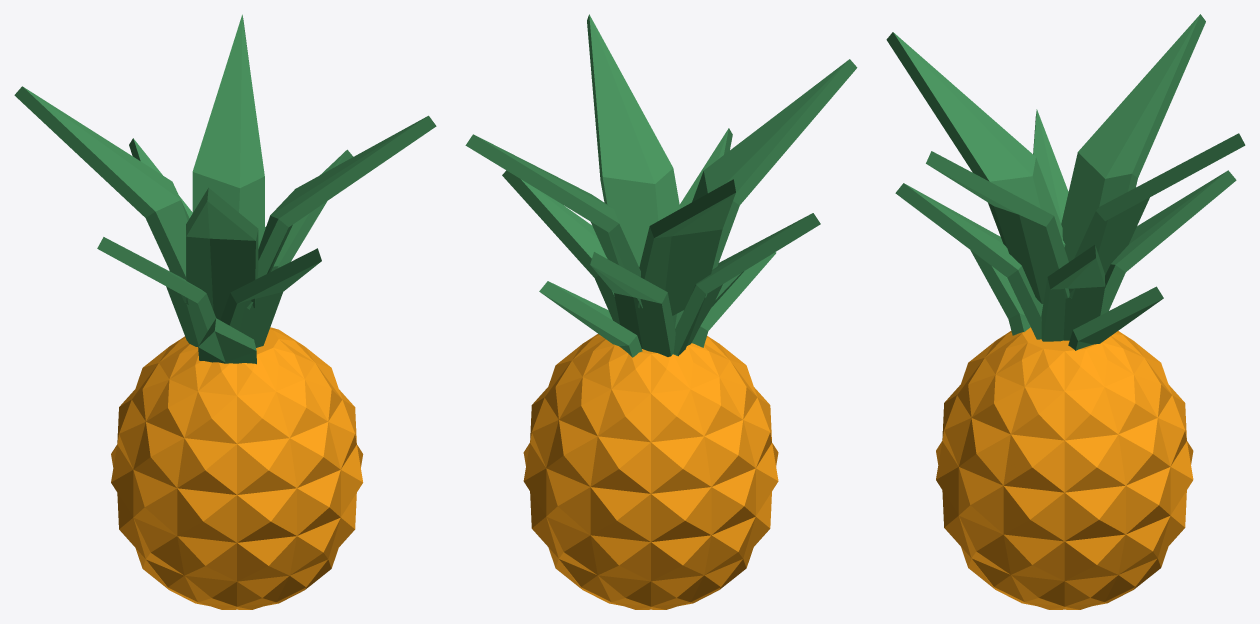
The model's file is pineapple.fbx.
The picture shows the model from 3 angles, left to right: view 1: azimuth 30°, elevation 25°; view 2: azimuth 150°, elevation 25°; view 3: azimuth 270°, elevation 25°; orthographic projection. The views are drawn at different scales.
Parts seen in each view (by area): view 1: Sphere.067; view 2: Sphere.067; view 3: Sphere.067.
Boxes of the visible parts, box(x1,y1,x2,y2) form: Sphere.067: box(14, 14, 436, 609); Sphere.067: box(465, 14, 857, 609); Sphere.067: box(886, 14, 1245, 609).
Size of the model in its own units: 110 by 180 by 117.
